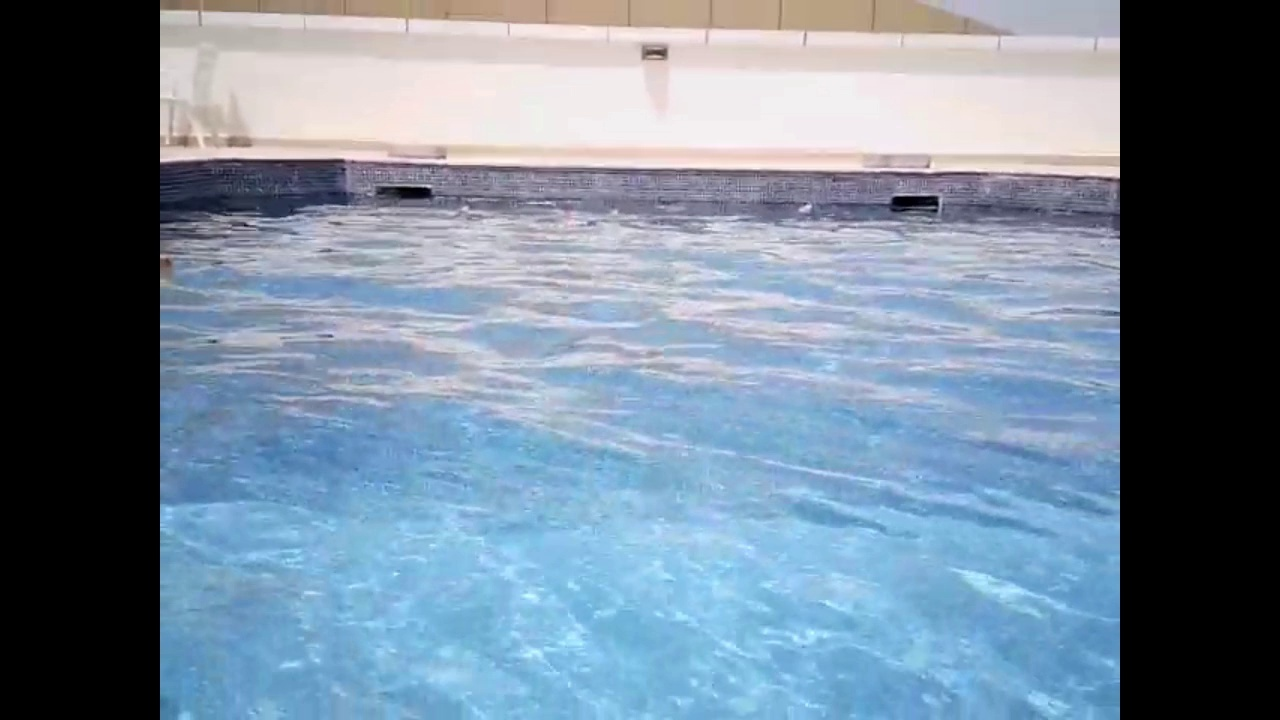debris: (790, 197, 823, 219)
